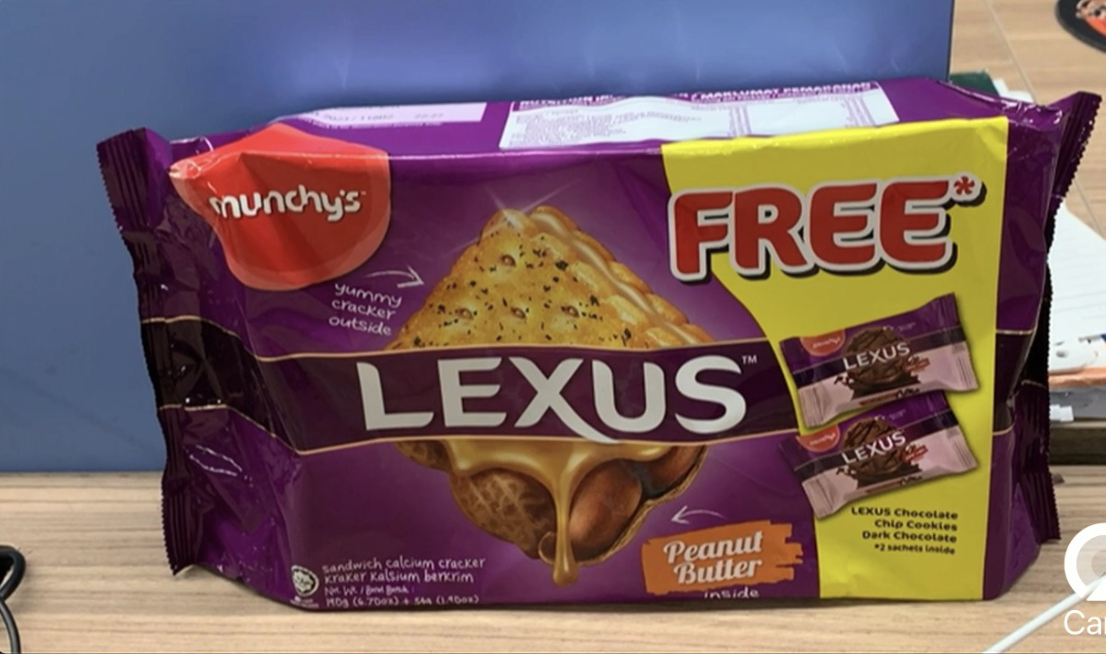crackers_150g: (203, 173, 1009, 607)
